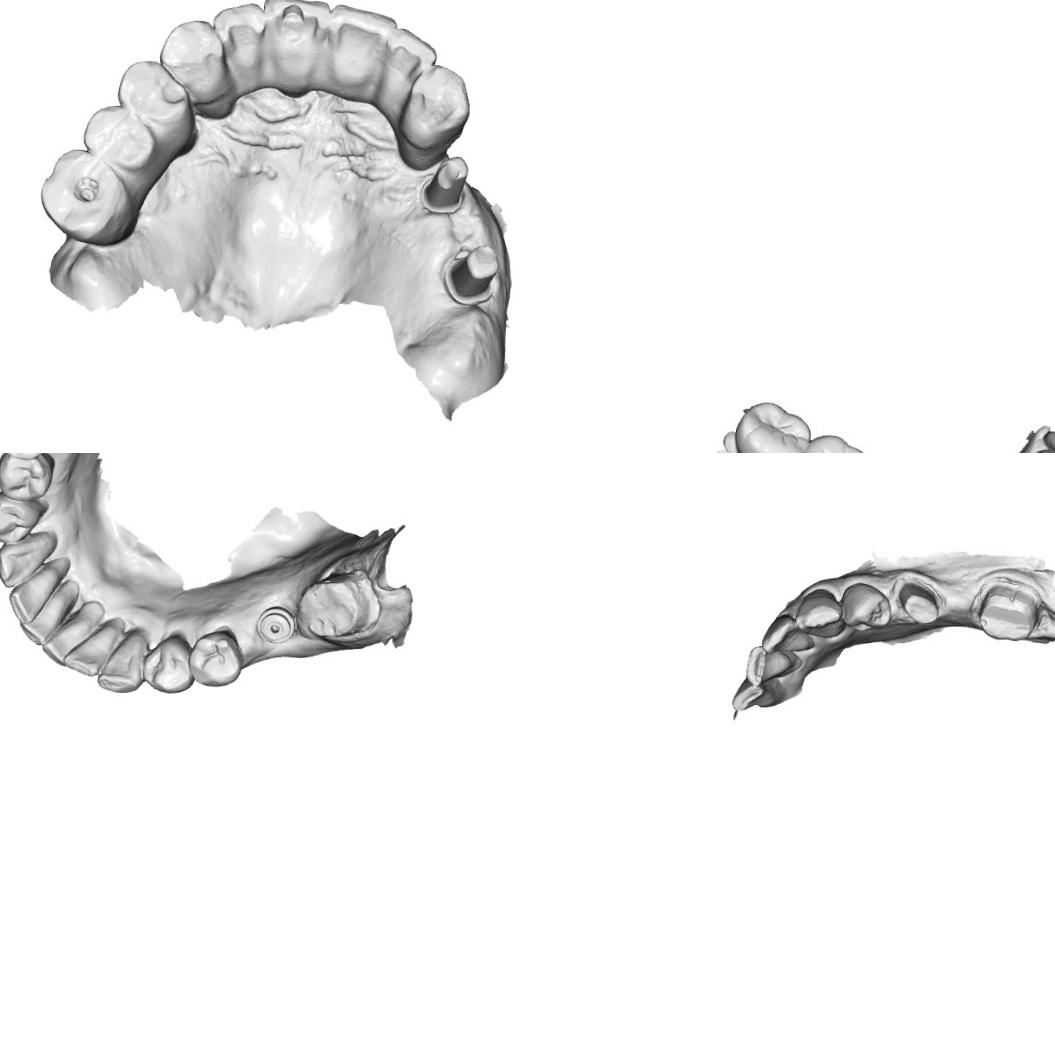abutment: (442, 241, 504, 310), (421, 154, 470, 213)
canine: (156, 16, 232, 102), (400, 60, 472, 150), (95, 630, 149, 697), (792, 586, 847, 640), (0, 537, 48, 590)
crown: (295, 568, 376, 644), (968, 574, 1042, 644), (891, 573, 943, 626)
implant: (255, 603, 295, 644)
incisor: (324, 3, 399, 90), (375, 26, 442, 112), (259, 0, 331, 76), (209, 0, 269, 81), (741, 644, 802, 688), (42, 614, 92, 666), (60, 629, 111, 679), (5, 570, 50, 626), (760, 613, 816, 656), (20, 599, 62, 645), (730, 676, 779, 713)
molar: (36, 145, 134, 246), (79, 101, 159, 181), (731, 401, 809, 453), (796, 431, 867, 453)
premolar: (114, 58, 192, 132), (187, 626, 245, 690), (141, 632, 197, 697), (839, 580, 892, 633), (0, 453, 55, 504), (0, 491, 46, 548)
